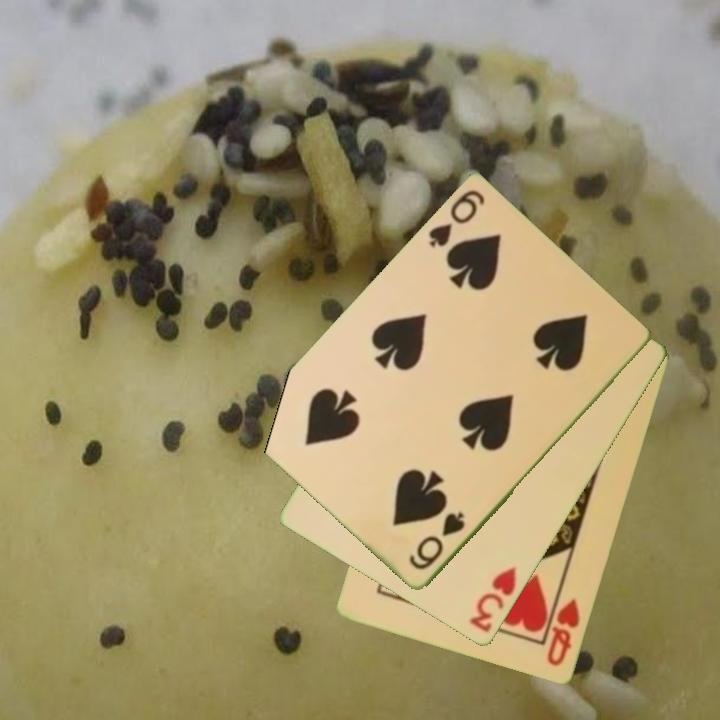3h: (466, 563, 520, 637)
6s: (405, 509, 469, 574), (425, 187, 488, 251)
Qh: (544, 595, 583, 670)
